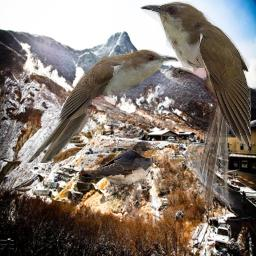Cuckoo: (140, 0, 251, 202), (27, 49, 179, 163)
Swallow: (81, 140, 157, 188)
